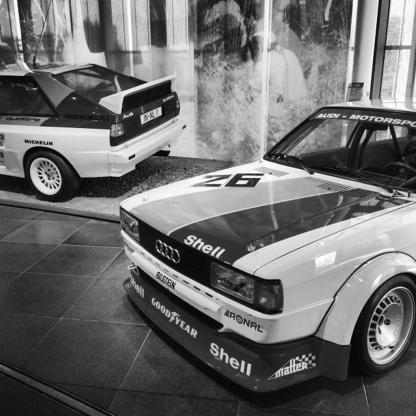car: (119, 54, 416, 393), (1, 51, 191, 175)
